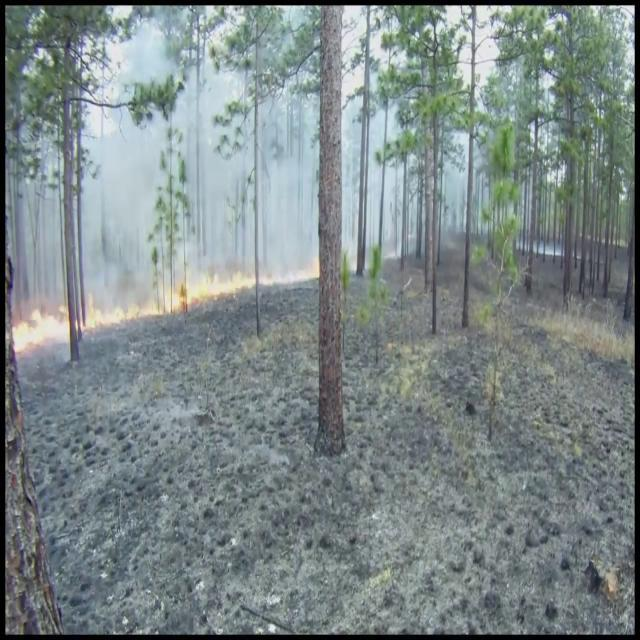Fire: (102, 259, 255, 320), (9, 304, 66, 356)
Smoke: (28, 48, 314, 308)
